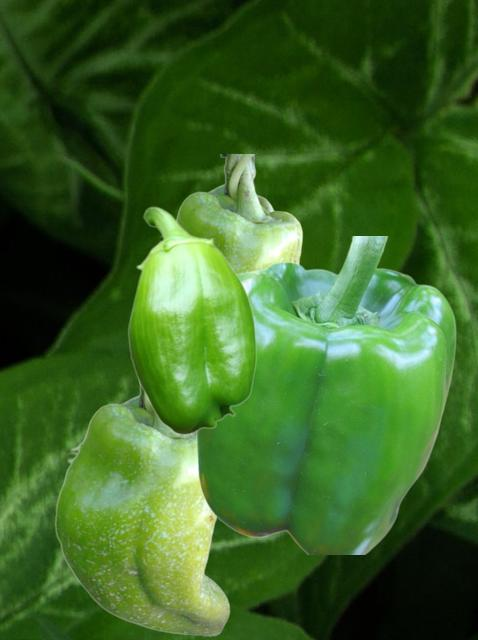bell_pepper: (195, 236, 455, 553), (54, 383, 229, 635), (127, 206, 256, 434), (158, 154, 303, 272)
